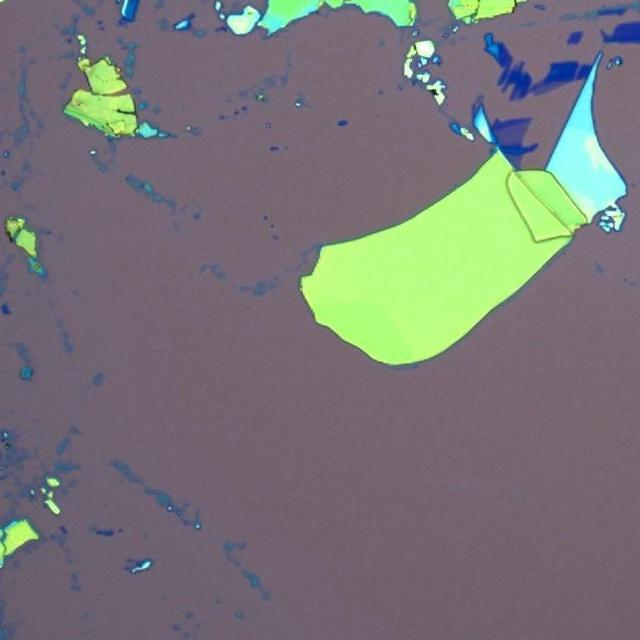monolayer-eWW4: (495, 122, 531, 146), (536, 80, 566, 97), (506, 153, 524, 167)
